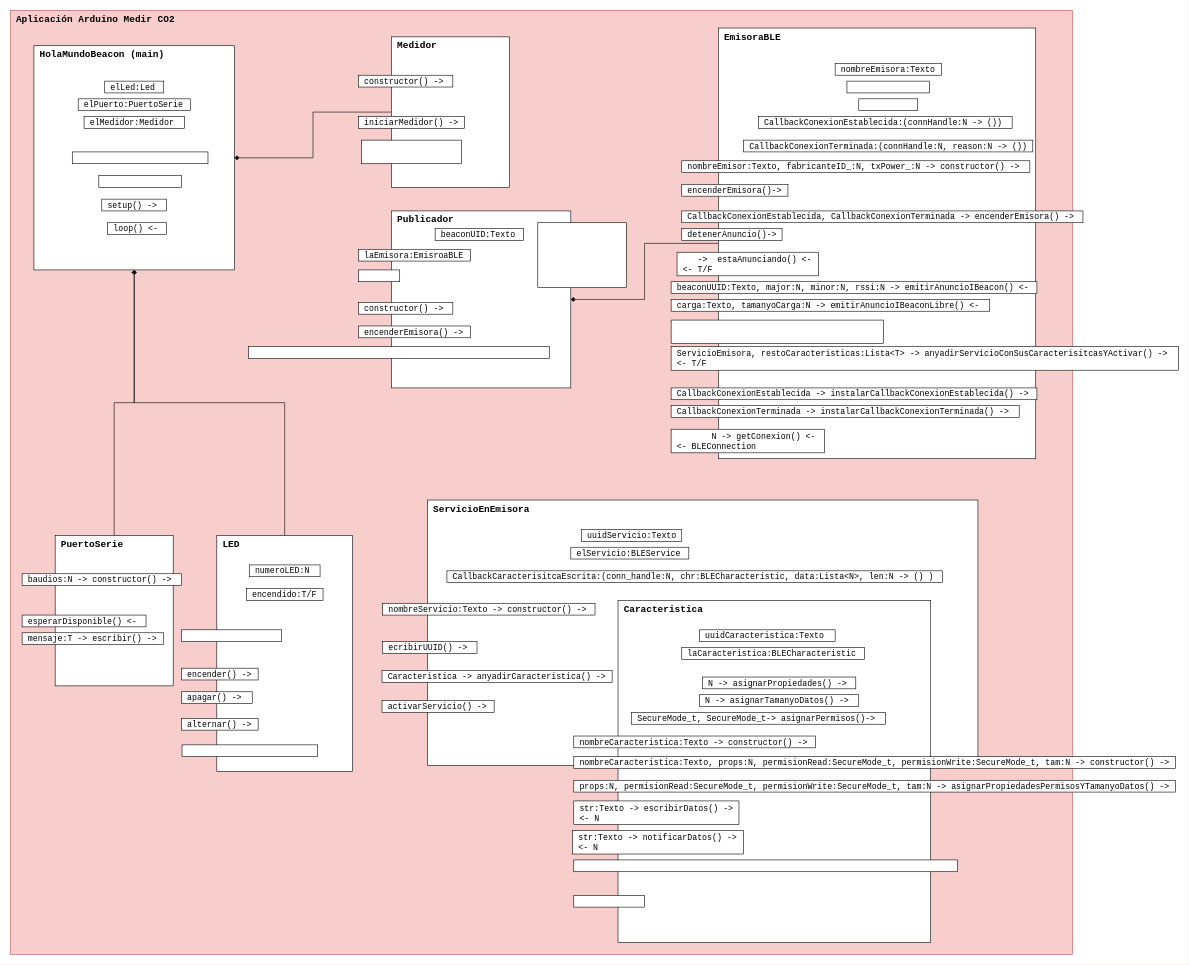
Image size: 1189x965. Some labels were removed from this diagram. Each missing label, with the centre of its shape:
"-> medirCO2() <- N <-" goes at point (411, 152).
"activar() ->" goes at point (609, 901).
"CallbackCaracteristicaEscrita-> instalarCallbackCaracteristicaEscrita() ->" goes at point (765, 865).
"fabricanteID:N" goes at point (888, 87).
"inicializarPlaquita() ->" goes at point (140, 157).
"lucecitas() <-" goes at point (139, 181).
"MedicionesID CO2:N Temperatura:N Ruido:N" goes at point (581, 255).
"N -> constructor()" goes at point (231, 635).
"RSSI:Z" goes at point (379, 275).
"ServicioEmisora -> anyadirServicio() -> <- T/F" goes at point (777, 331).
"tiempo:N -> brillar() ->" goes at point (249, 750).
"txPower:N" goes at point (888, 104).
"valorCO2:N, contador:N, tiempoEspera:N -> publicarCO2() <-" goes at point (399, 352).
